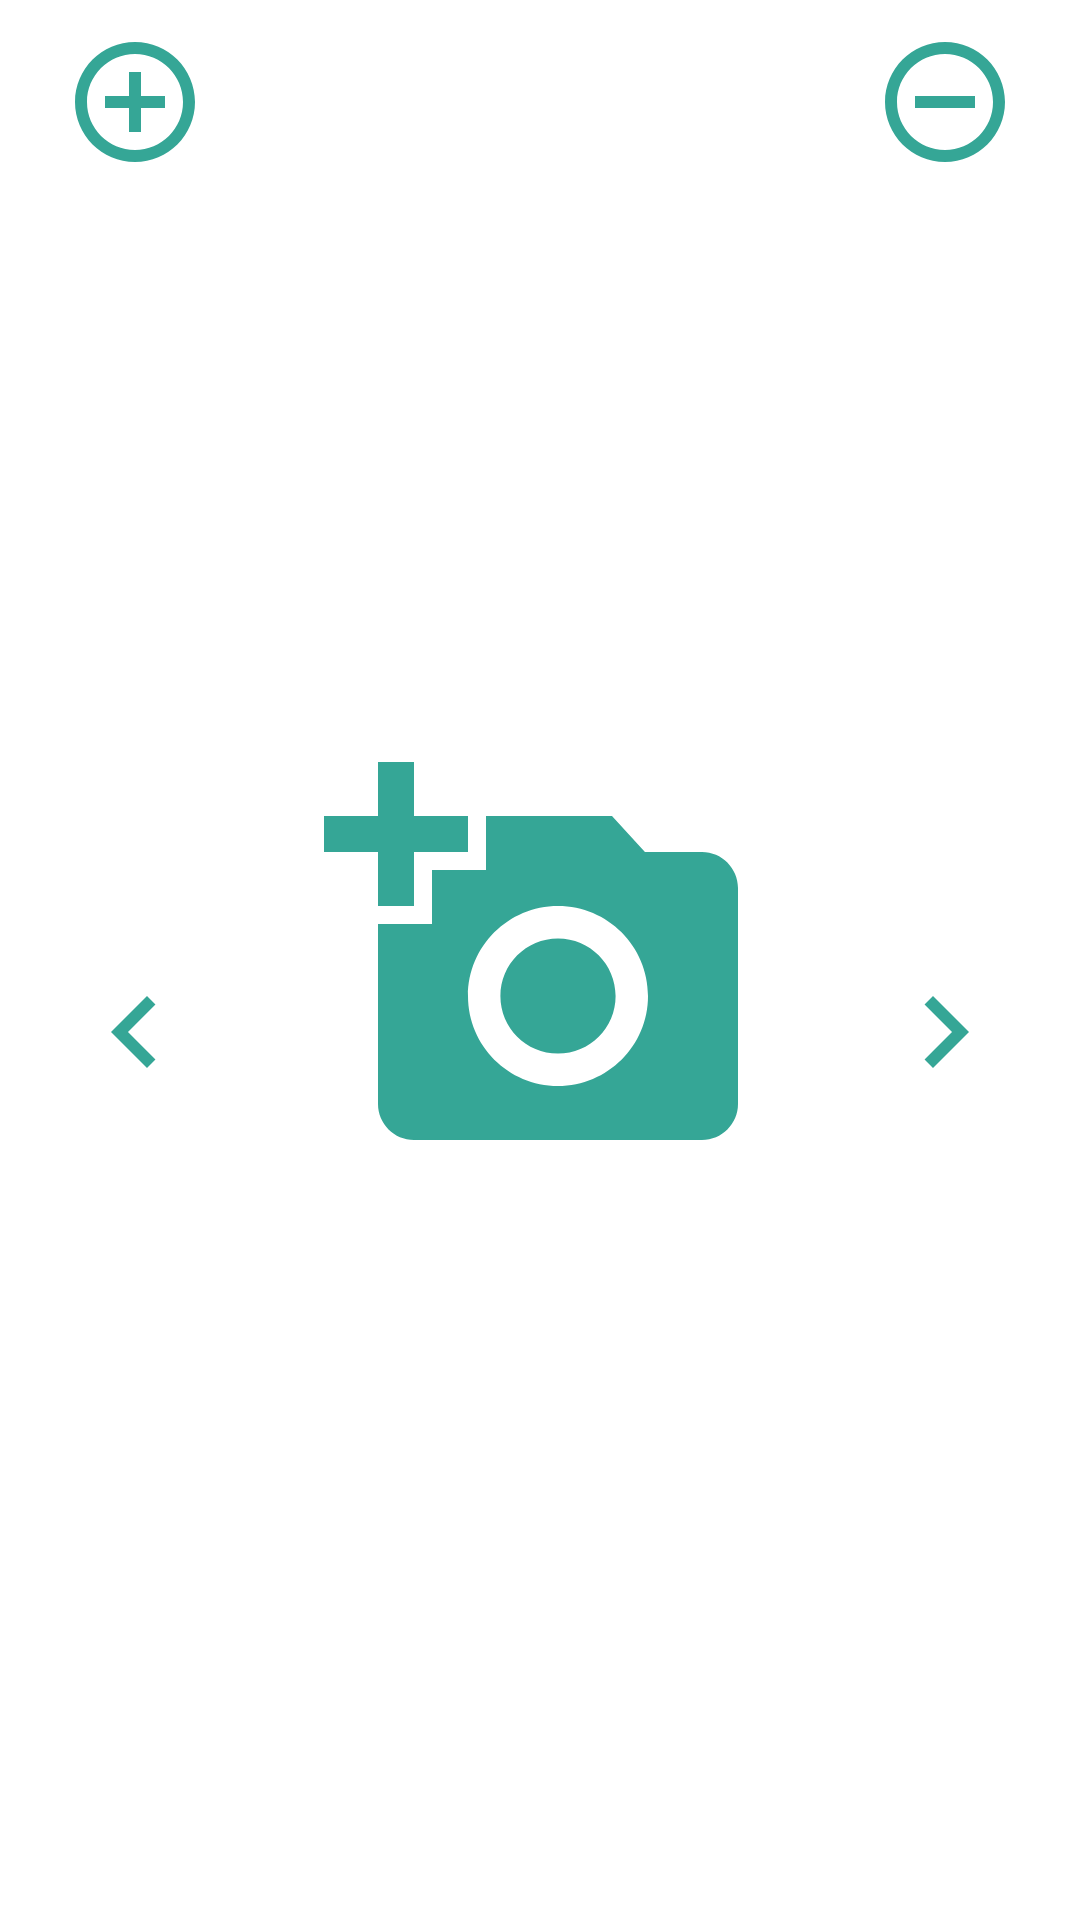

Named icons in this screenshot (1080x1920) and their centers, (x=x, y=y):
Add Photo: (x=135, y=102)
Delete Photo: (x=945, y=102)
Left Arrow: (x=133, y=1032)
Right Arrow: (x=946, y=1032)
